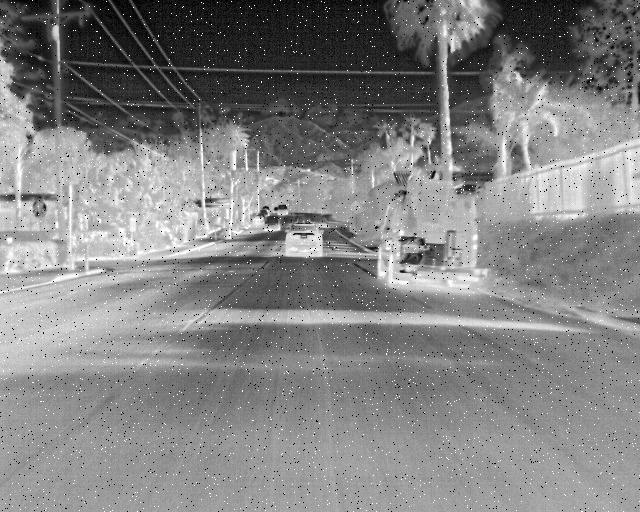car: (374, 178, 484, 296), (285, 220, 330, 261), (275, 203, 299, 220), (257, 204, 277, 223), (264, 220, 283, 239), (251, 209, 268, 223)
